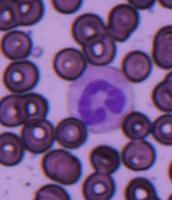N: (66, 64, 134, 132)
